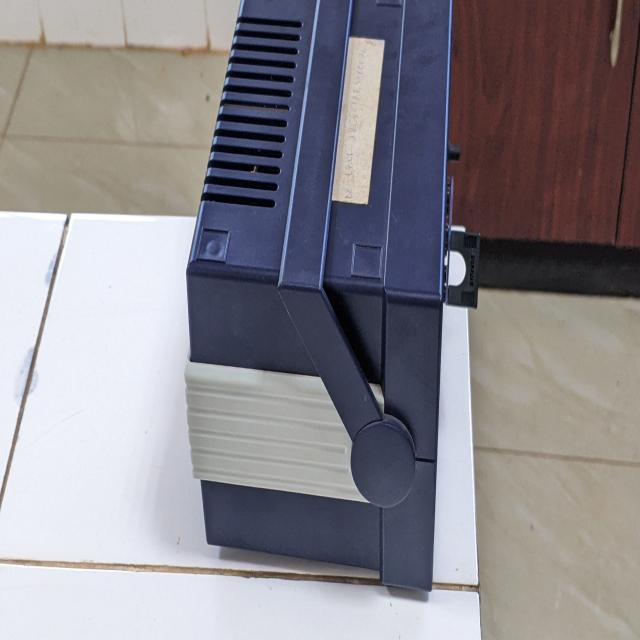Power Supply Stufentrafo_75VA: (177, 9, 457, 600)
